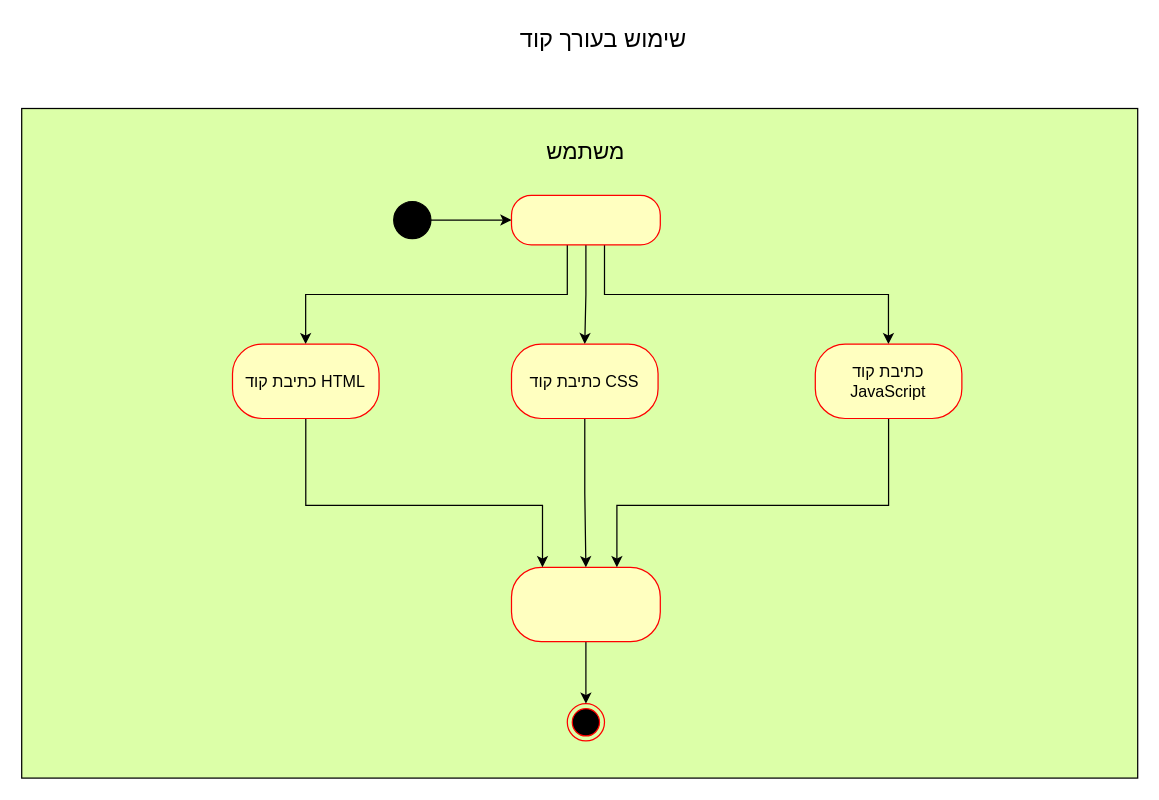
Some shapes in this 1159 by 800 pixel diagram are drawn without their labels. Here are the shapes that lost their labels. From the top down, the centre of each, then its label:
point (585, 219): נכנס לדף "שימוש בעורך קוד"
point (585, 604): מציג מידע למשתמש
